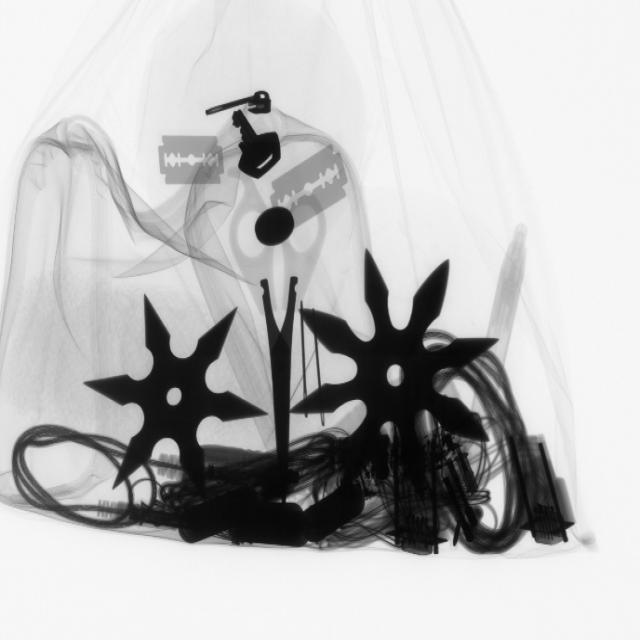BLADE: (266, 137, 354, 232), (155, 123, 236, 195)
SHURIKEN: (299, 250, 498, 497), (91, 292, 263, 496)
